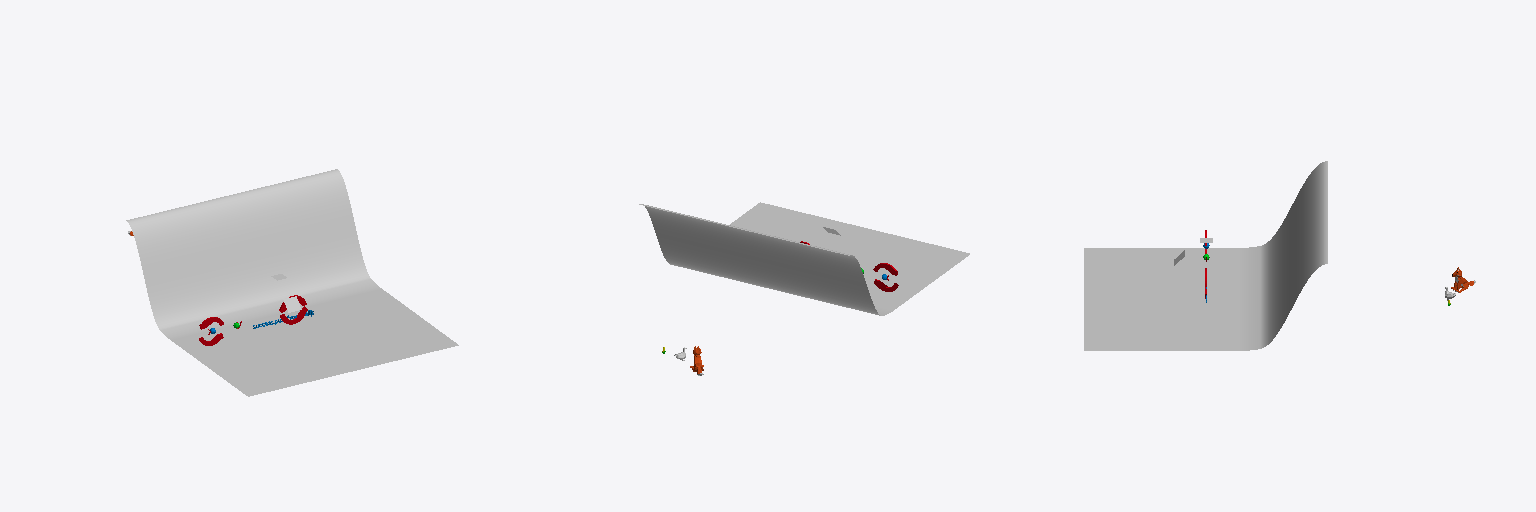
Rendered from jared-nielsen-algorithm-swap.obj.
The picture shows the model from 3 angles: view 1: azimuth 30°, elevation 25°; view 2: azimuth 150°, elevation 25°; view 3: azimuth 270°, elevation 25°; orthographic projection.
Visible parts, largest first — view 1: Plane; view 2: Plane; view 3: Plane.
Part boxes in pixels (bbox=[...]): Plane: bbox=[126, 169, 458, 396]; Plane: bbox=[639, 202, 969, 315]; Plane: bbox=[1084, 161, 1327, 350].
Size of the model in its own units: 32 by 12.61 by 51.31.